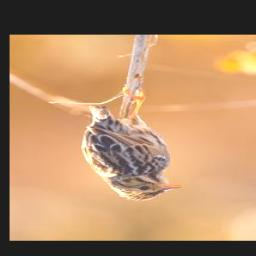Sparrow: (80, 88, 187, 202)
